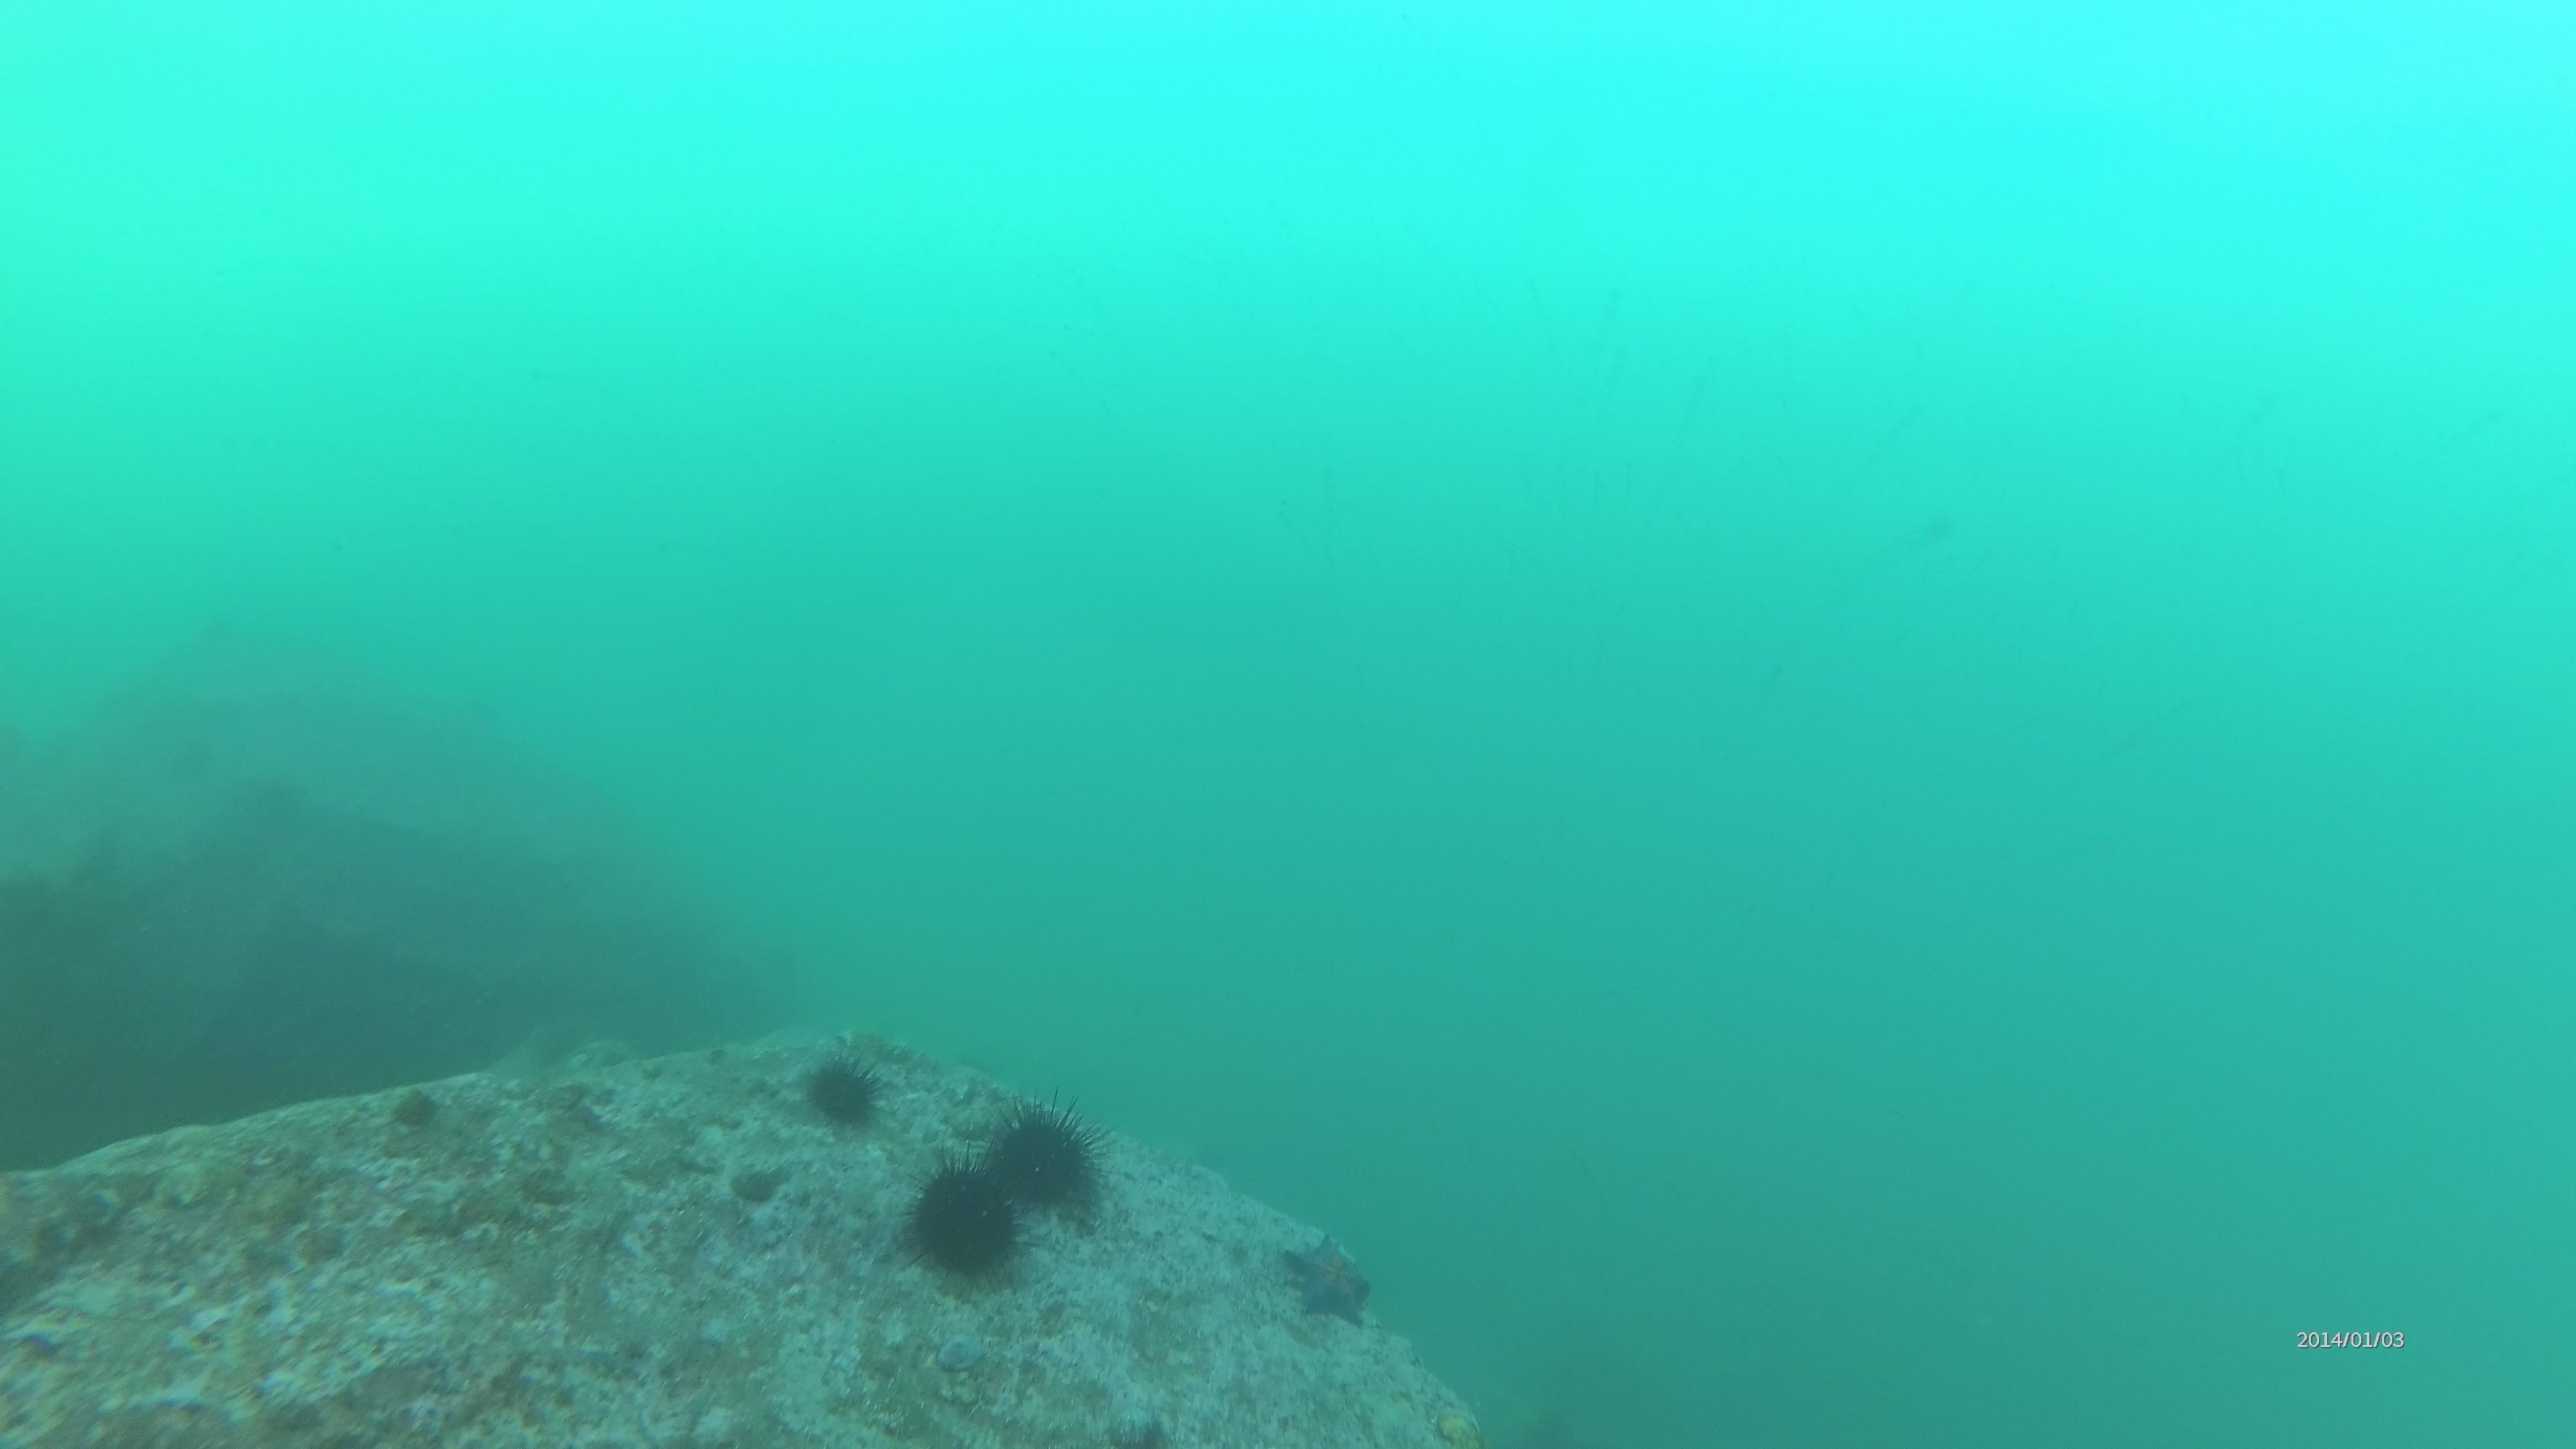echinus: (980, 1093, 1111, 1219), (902, 1157, 1026, 1284), (798, 1047, 890, 1132)
starfish: (1276, 1230, 1380, 1330)
